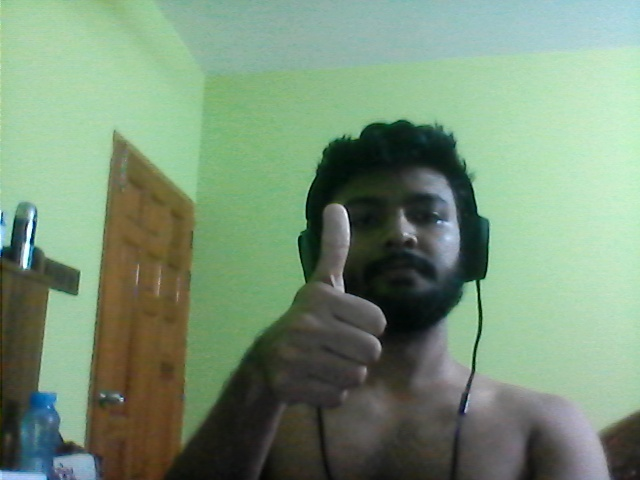Yes: (241, 197, 387, 424)
